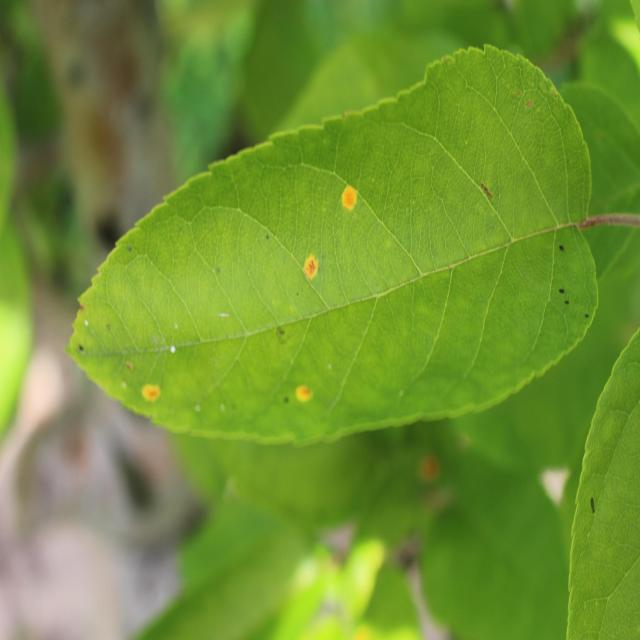Rust: (336, 180, 370, 238), (282, 369, 322, 416), (132, 378, 172, 422), (296, 248, 325, 292)
